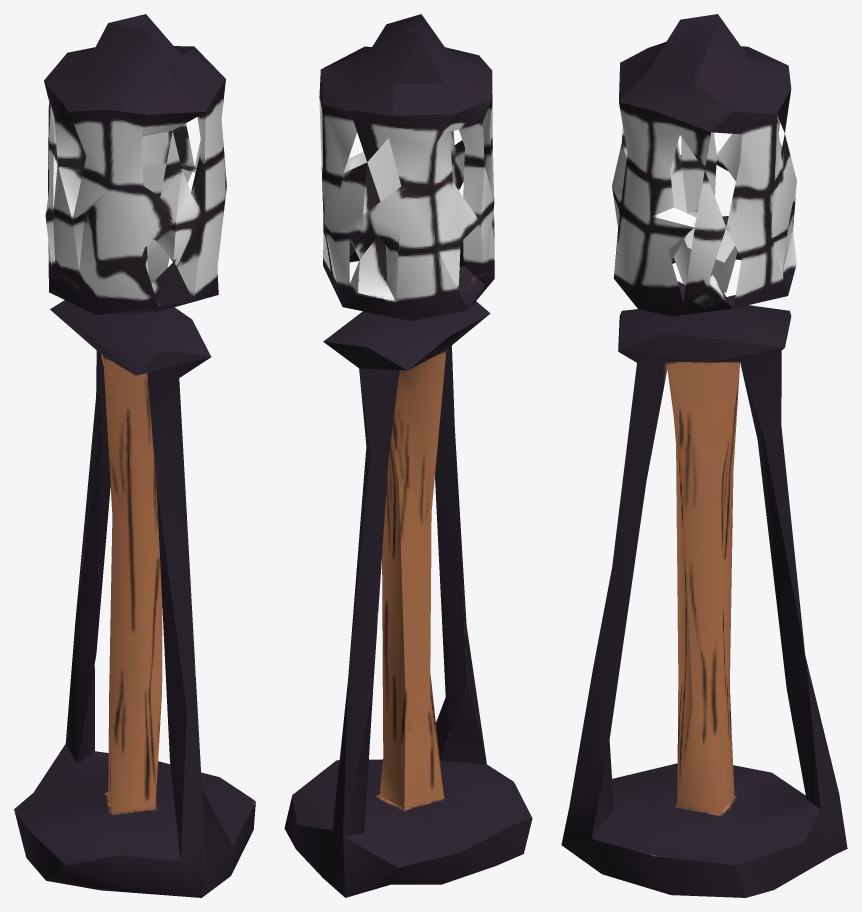
The model's file is brickloft-cage-floor-lamp.glb.
3 renders of one model, left to right at view 1: azimuth 30°, elevation 25°; view 2: azimuth 150°, elevation 25°; view 3: azimuth 270°, elevation 25°, orthographic.
Parts seen in each view (by area): view 1: geometry_0; view 2: geometry_0; view 3: geometry_0.
Part boxes in pixels (x1=…): geometry_0: x1=14, y1=14, x2=255, y2=897; geometry_0: x1=284, y1=14, x2=532, y2=897; geometry_0: x1=561, y1=14, x2=847, y2=897.
Bounding box in the file's own units: 0.2626 × 1 × 0.3116.
Materials: 1 (1 with a texture image).
